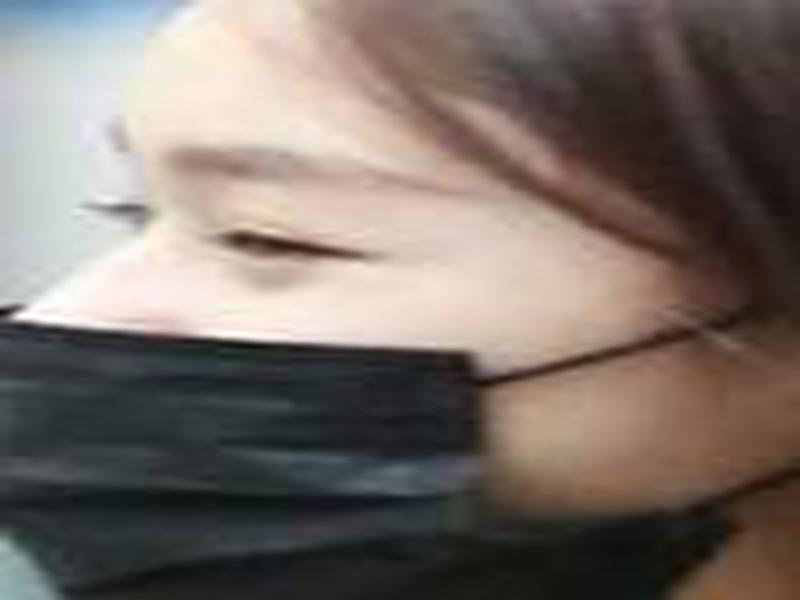with_mask: (1, 2, 794, 600)
